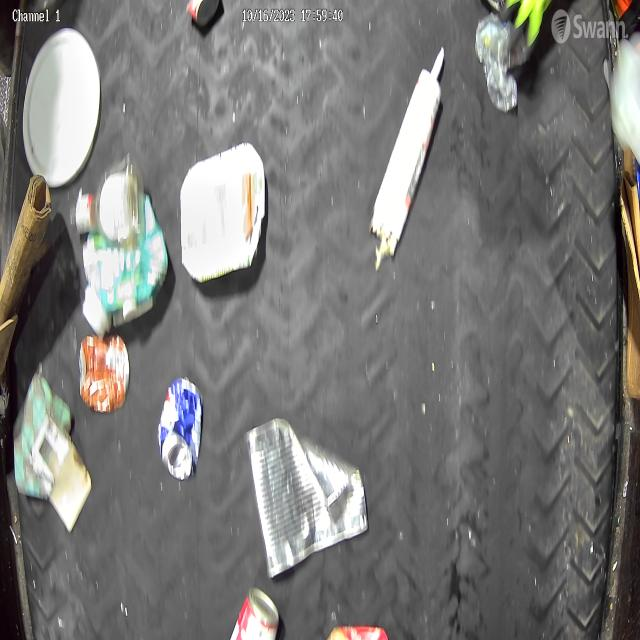can: (246, 414, 370, 578), (158, 376, 203, 481), (79, 335, 130, 414), (229, 585, 280, 640), (188, 0, 220, 26)
non_white_jug: (83, 192, 169, 322)
